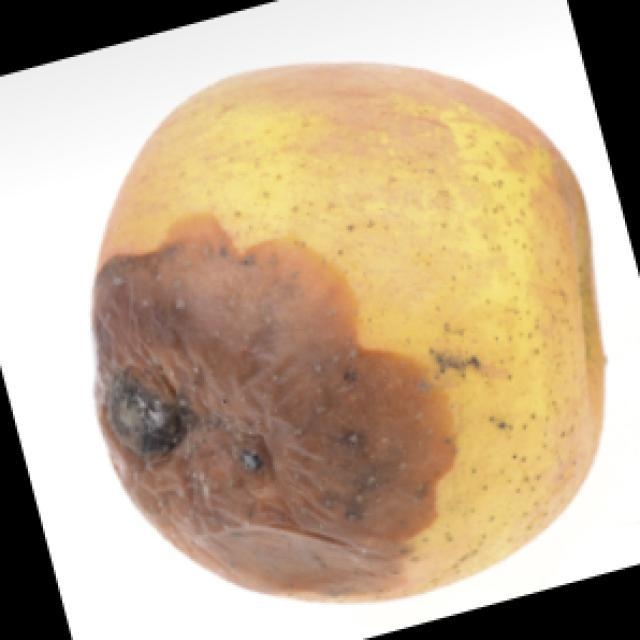Rotten: (89, 42, 607, 600)
